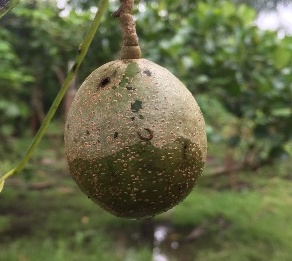Coc: (64, 59, 209, 219)
